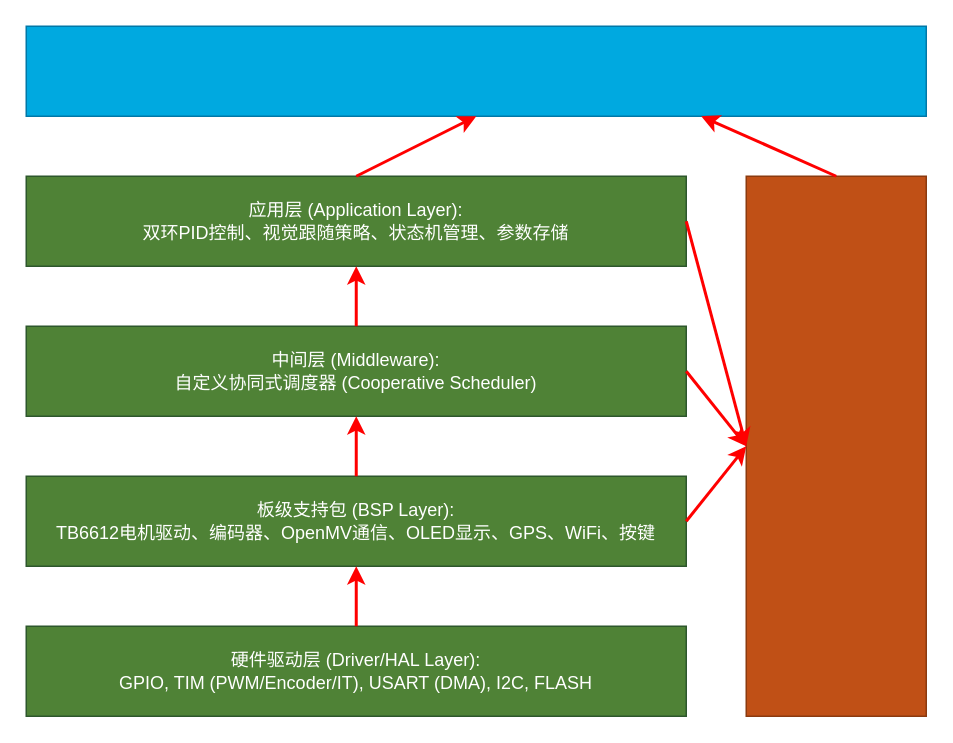
This 953x743 diagram has some shape labels left out. Here are the shapes that lost their labels. From the top down, the centre of each, then its label:
At pixel 475 70: "Main函数: 硬件初始化、任务注册、中断管理".
At pixel 835 445: "公共算法库 (Common): 增量/位置式PID算法 运动学解算 (Kinematics) 数据校验 (CRC/CheckSum)".
